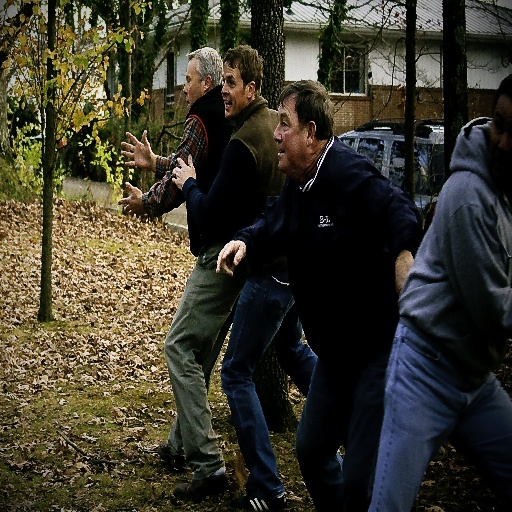hand: (116, 127, 165, 172), (215, 239, 246, 277), (117, 180, 146, 218), (171, 155, 196, 190), (394, 248, 413, 291)
